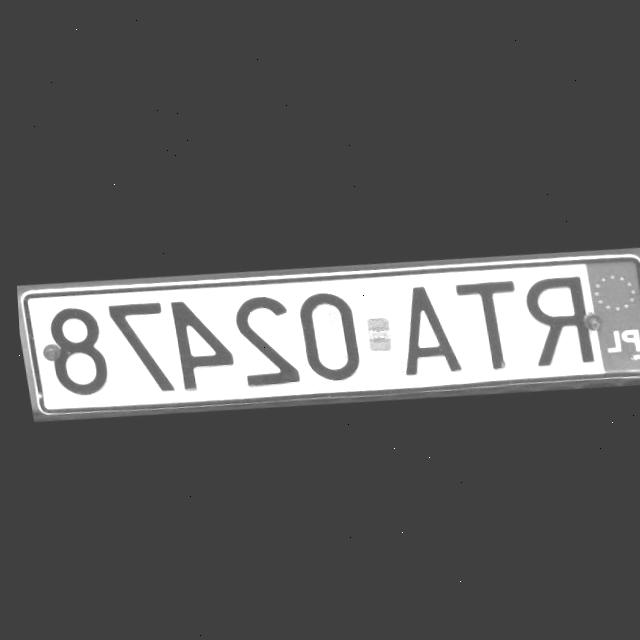license-plates: (19, 254, 640, 414)
